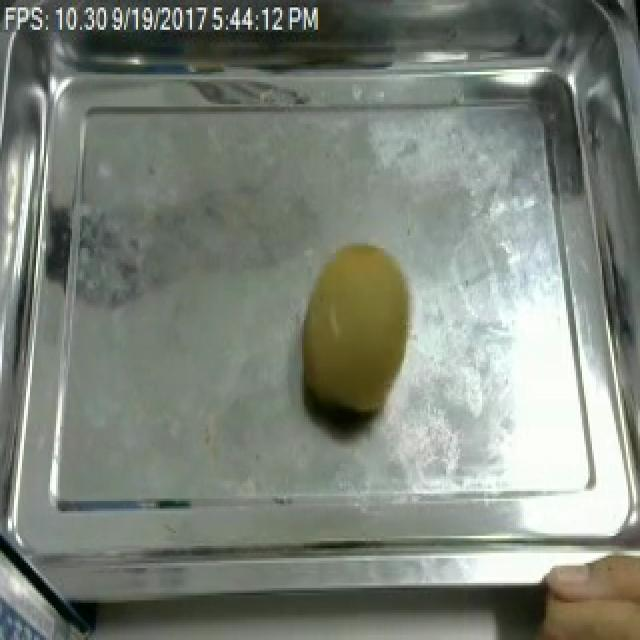Fruit: (292, 236, 428, 434)
